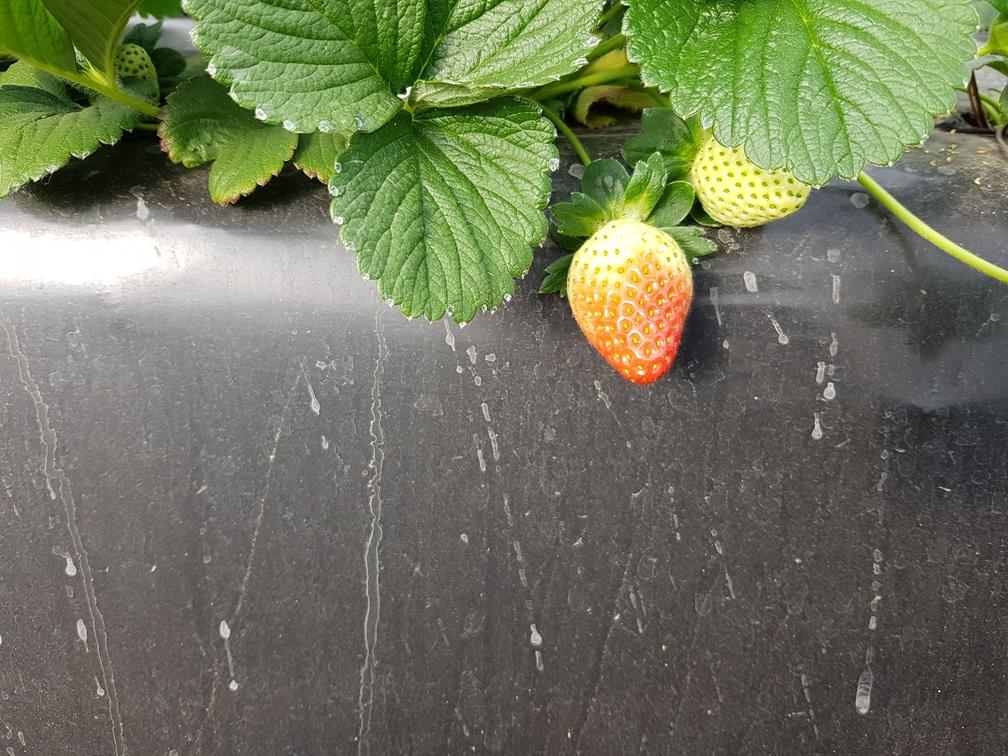Unripe: (572, 222, 698, 388), (695, 136, 816, 227)
